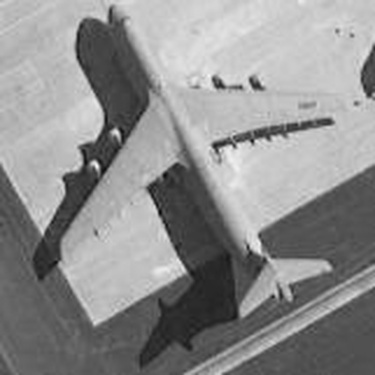airplane: (23, 1, 349, 323)
